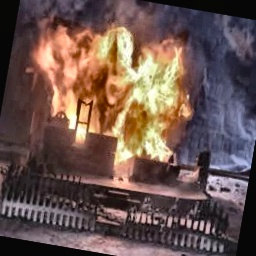fire: (16, 4, 212, 175)
